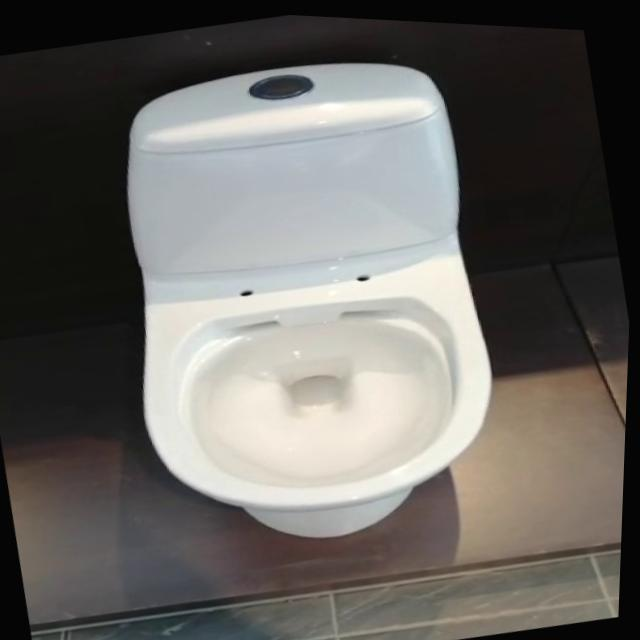toilet: (81, 25, 533, 573)
